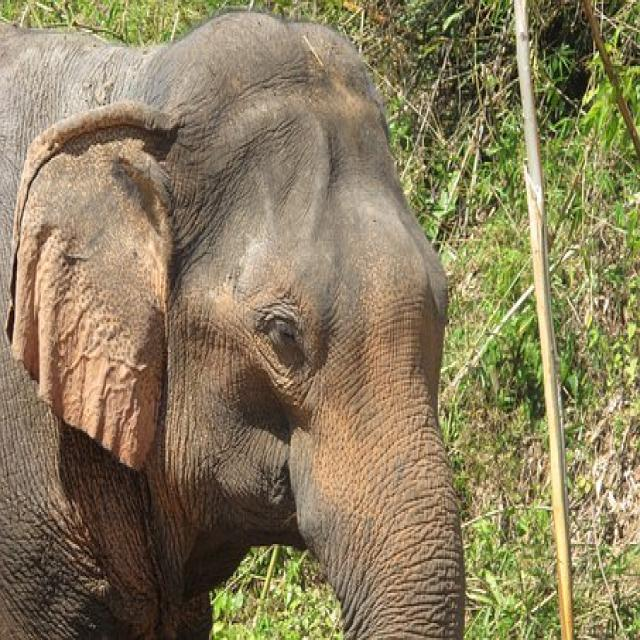Elephant: (4, 20, 490, 640)
